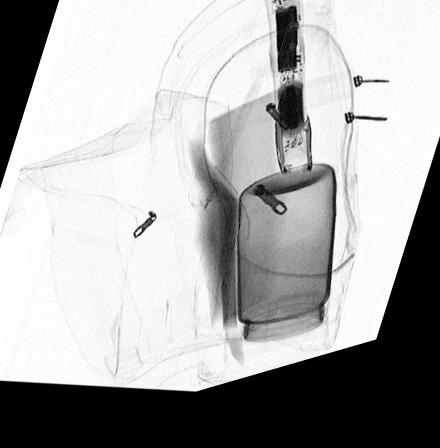Baton: (259, 0, 313, 193)
